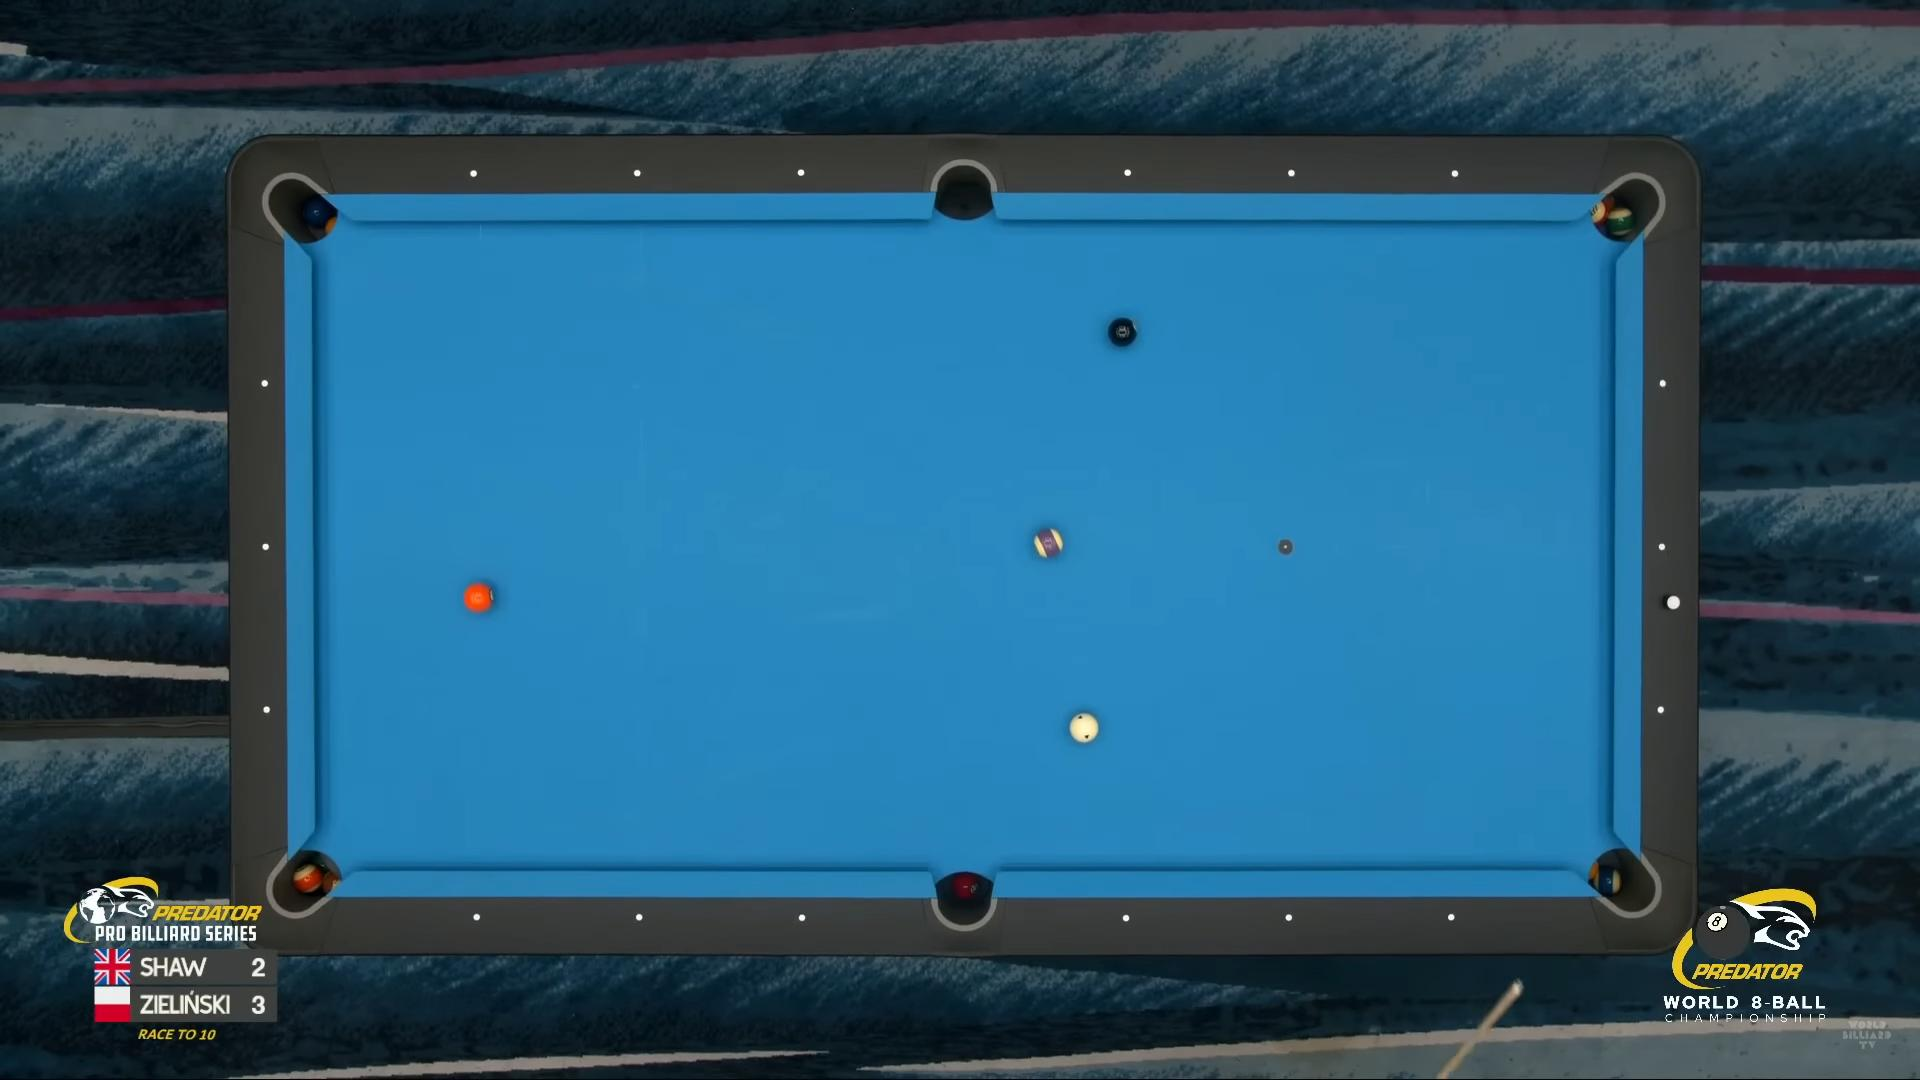Black: (1108, 318, 1138, 347)
Cue: (1069, 713, 1101, 742)
Dot: (257, 377, 272, 392), (1121, 166, 1135, 181), (1656, 377, 1671, 392), (1444, 910, 1458, 924), (632, 910, 646, 924), (258, 541, 273, 554), (630, 166, 645, 179), (794, 166, 808, 179), (1284, 166, 1298, 181), (1448, 167, 1462, 181), (1655, 541, 1669, 554), (1655, 703, 1668, 717), (1282, 910, 1295, 924), (1118, 911, 1133, 924), (469, 909, 483, 923), (260, 703, 273, 716), (467, 167, 480, 181), (795, 911, 808, 924)
Solid: (463, 583, 493, 612)
Striped: (1034, 529, 1064, 559)
